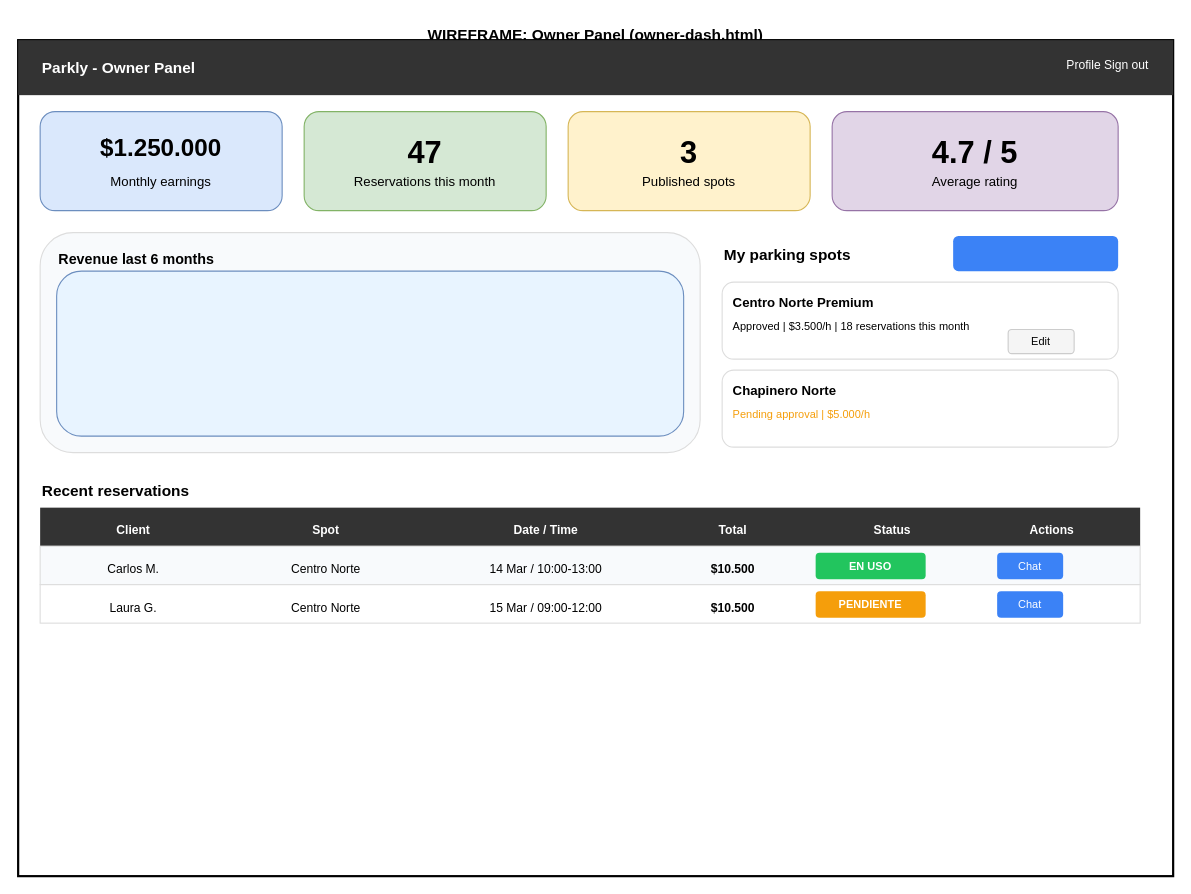
Some shapes in this 1191 by 894 pixel diagram are drawn without their labels. Each missing label, with the centre of its shape:
+ Add spot: point 1035,253
[Bar chart - Chart.js] Oct | Nov | Dec | Jan | Feb | Mar: point 370,353
